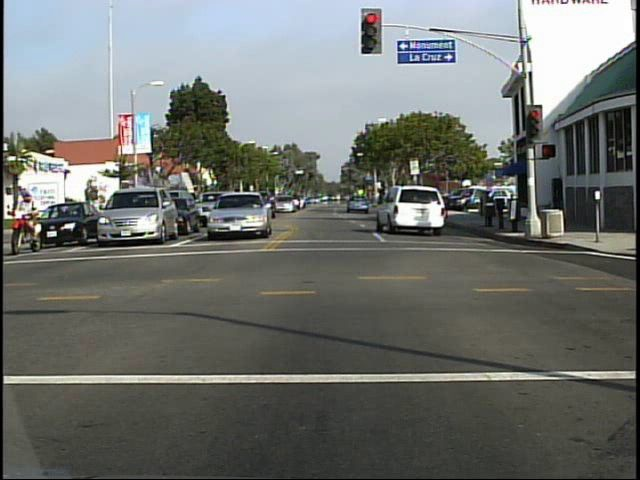person: (7, 185, 43, 255)
